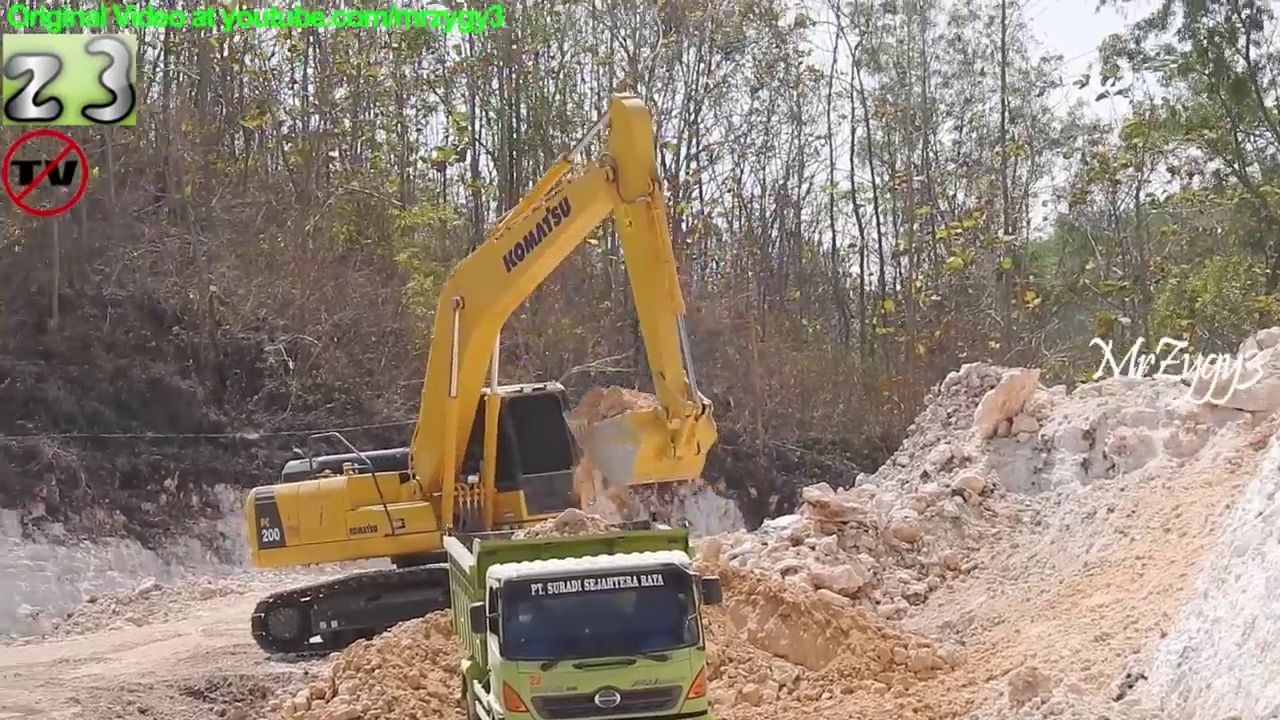excavator: (236, 86, 727, 667)
truck: (440, 507, 726, 720)
